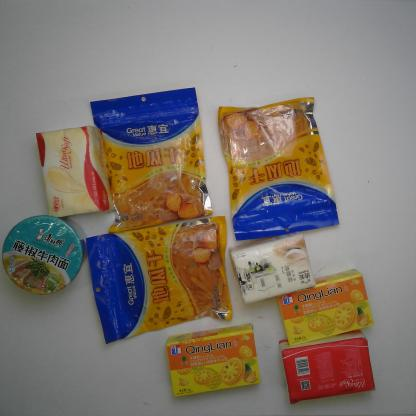Dessert: (278, 266, 374, 348), (162, 322, 260, 396)
Dried Fruit: (82, 211, 237, 341), (88, 87, 218, 234), (213, 94, 341, 243)
Instant Noodles: (1, 216, 86, 296)
Tissue: (29, 122, 113, 219), (273, 332, 378, 405), (225, 229, 319, 305)
